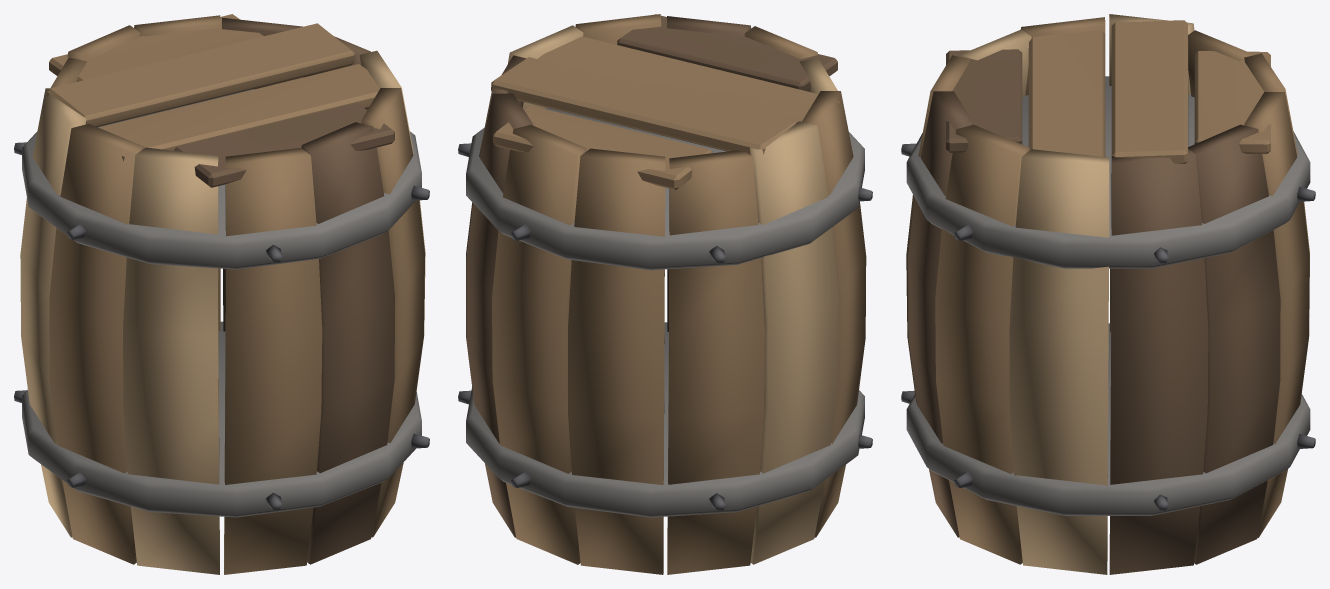
The model's file is barrel.190f1f8d.glb.
3 renders of one model, left to right at view 1: azimuth 30°, elevation 25°; view 2: azimuth 150°, elevation 25°; view 3: azimuth 270°, elevation 25°, orthographic.
Visible parts, largest first — view 1: barrel; view 2: barrel; view 3: barrel.
Boxes of the visible parts, x1,y1,x2,y2 form: barrel: (14, 14, 429, 574); barrel: (458, 14, 872, 574); barrel: (901, 14, 1315, 574).
Size of the model in its own units: 0.9123 by 1.01 by 0.9123.
